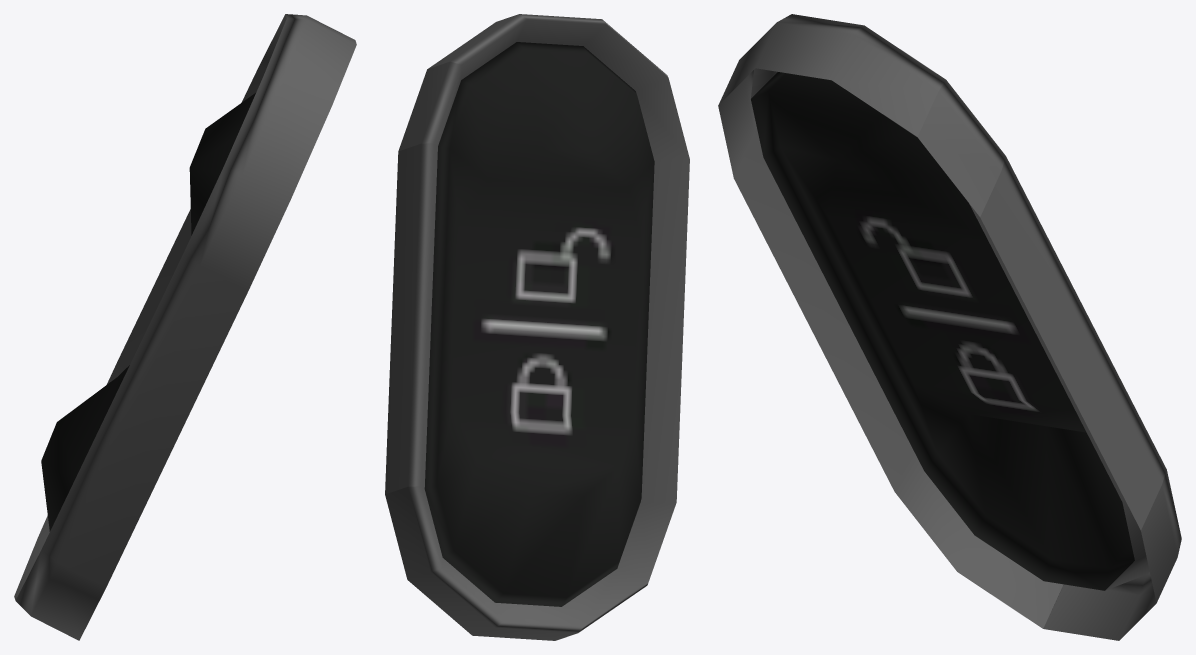
File: Murcielago-LeftDoorDetails.fbx
The picture shows the model from 3 angles, left to right: view 1: azimuth 30°, elevation 25°; view 2: azimuth 150°, elevation 25°; view 3: azimuth 270°, elevation 25°; orthographic projection. The views are drawn at different scales.
Parts seen in each view (by area): view 1: P_LeftDoorDetails; view 2: P_LeftDoorDetails; view 3: P_LeftDoorDetails.
Part boxes in pixels (x1,y1,x2,y2): P_LeftDoorDetails: (14, 14, 356, 640); P_LeftDoorDetails: (385, 14, 689, 640); P_LeftDoorDetails: (718, 14, 1181, 640).
Size of the model in its own units: 0.0334 by 0.0671 by 0.0425.
